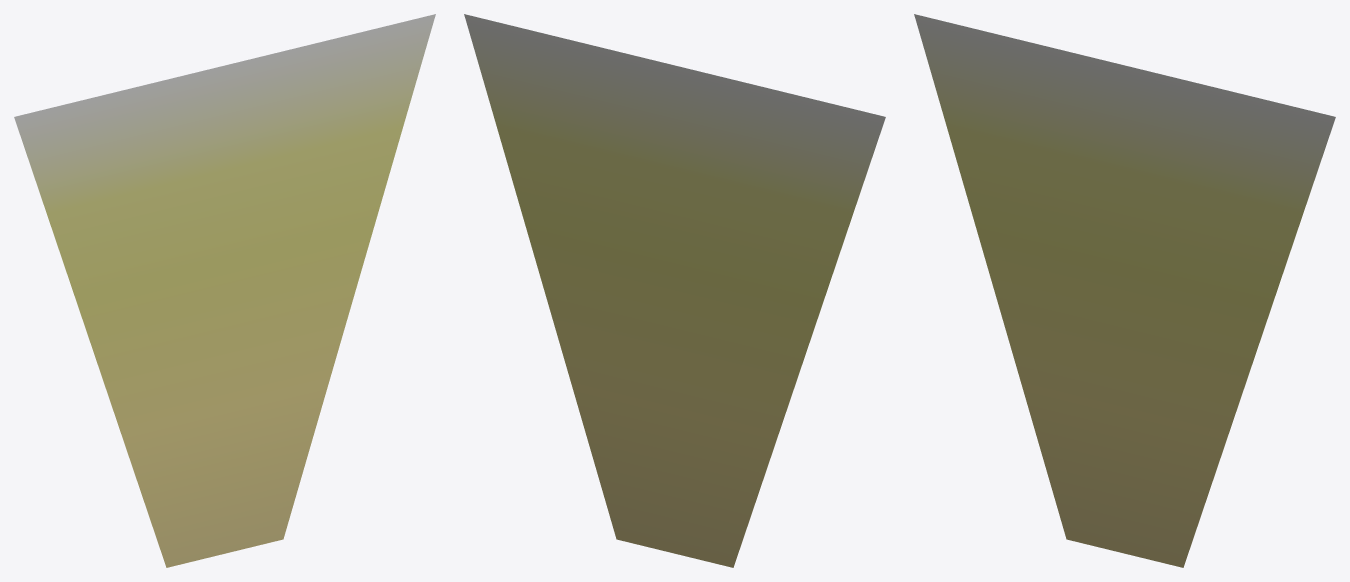
Rendered from lamp_2.fbx.
3 views of the same model, side by side, from view 1: azimuth 30°, elevation 25°; view 2: azimuth 150°, elevation 25°; view 3: azimuth 330°, elevation 25° (orthographic).
Parts seen in each view (by area): view 1: lamp_2; view 2: lamp_2; view 3: lamp_2.
Boxes of the visible parts, x1,y1,x2,y2 form: lamp_2: [14, 14, 435, 567]; lamp_2: [464, 14, 885, 567]; lamp_2: [914, 14, 1335, 567].
Size of the model in its own units: 13.26 by 14.66 by 0.
